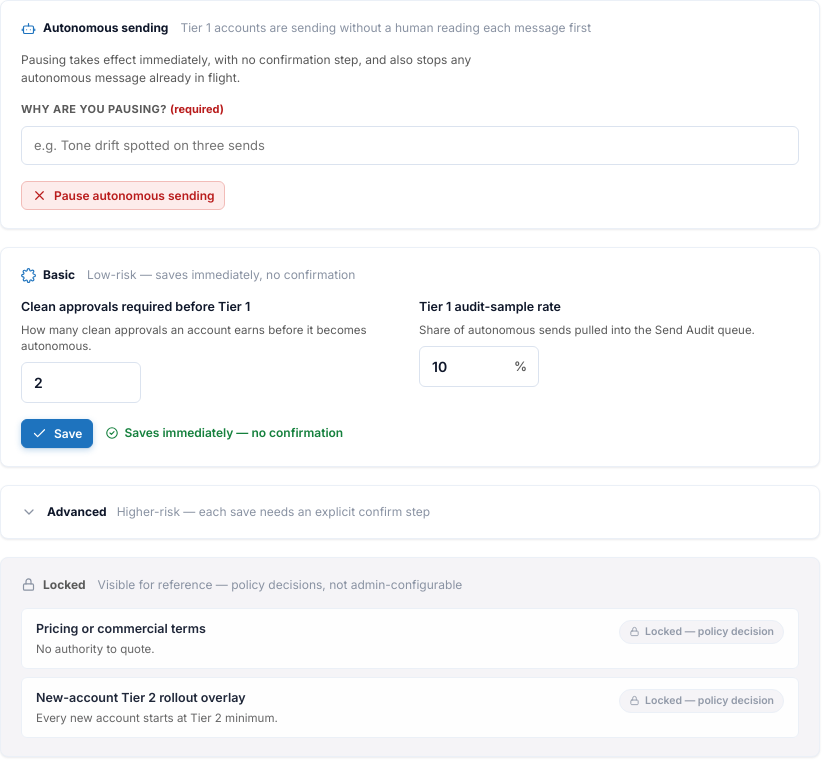
it: SettingsPage › autonomous kill switch › pauses immediately once a reason is given, with no confirmation step
Expected: the button "Pause autonomous sending" is shown, x1=21 y1=181 x2=226 y2=210
Type "Tone drift on three sends" into the field named "why are you pausing".
click(410, 145); type("Tone drift on three sends")  # box x1=21 y1=126 x2=799 y2=165
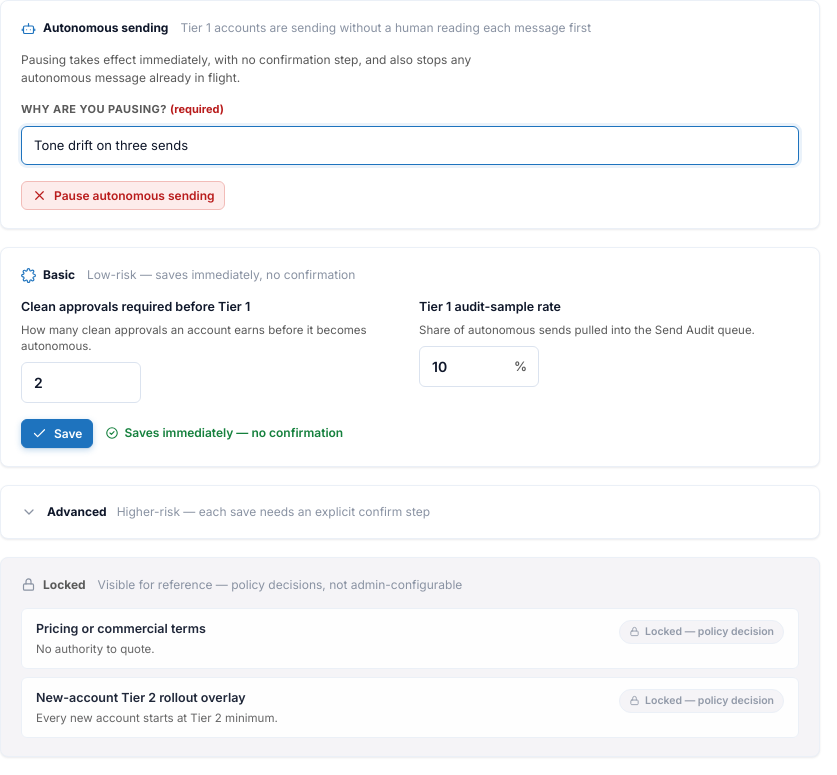
Click the button "Pause autonomous sending".
click(123, 196)  # box x1=21 y1=181 x2=226 y2=210
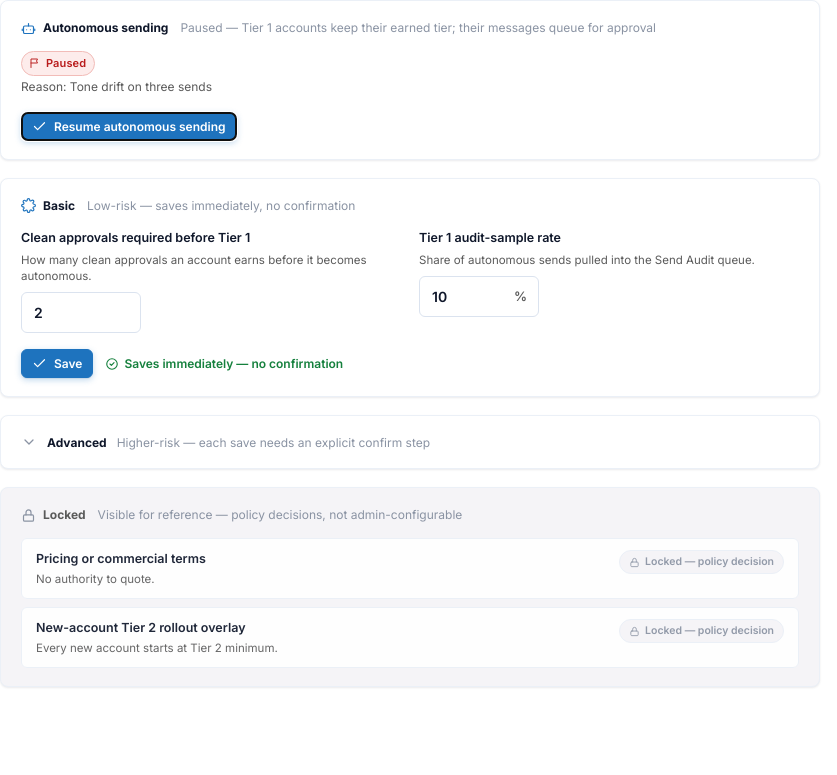
Expected: the text "Paused" is shown, x1=21 y1=51 x2=95 y2=76
